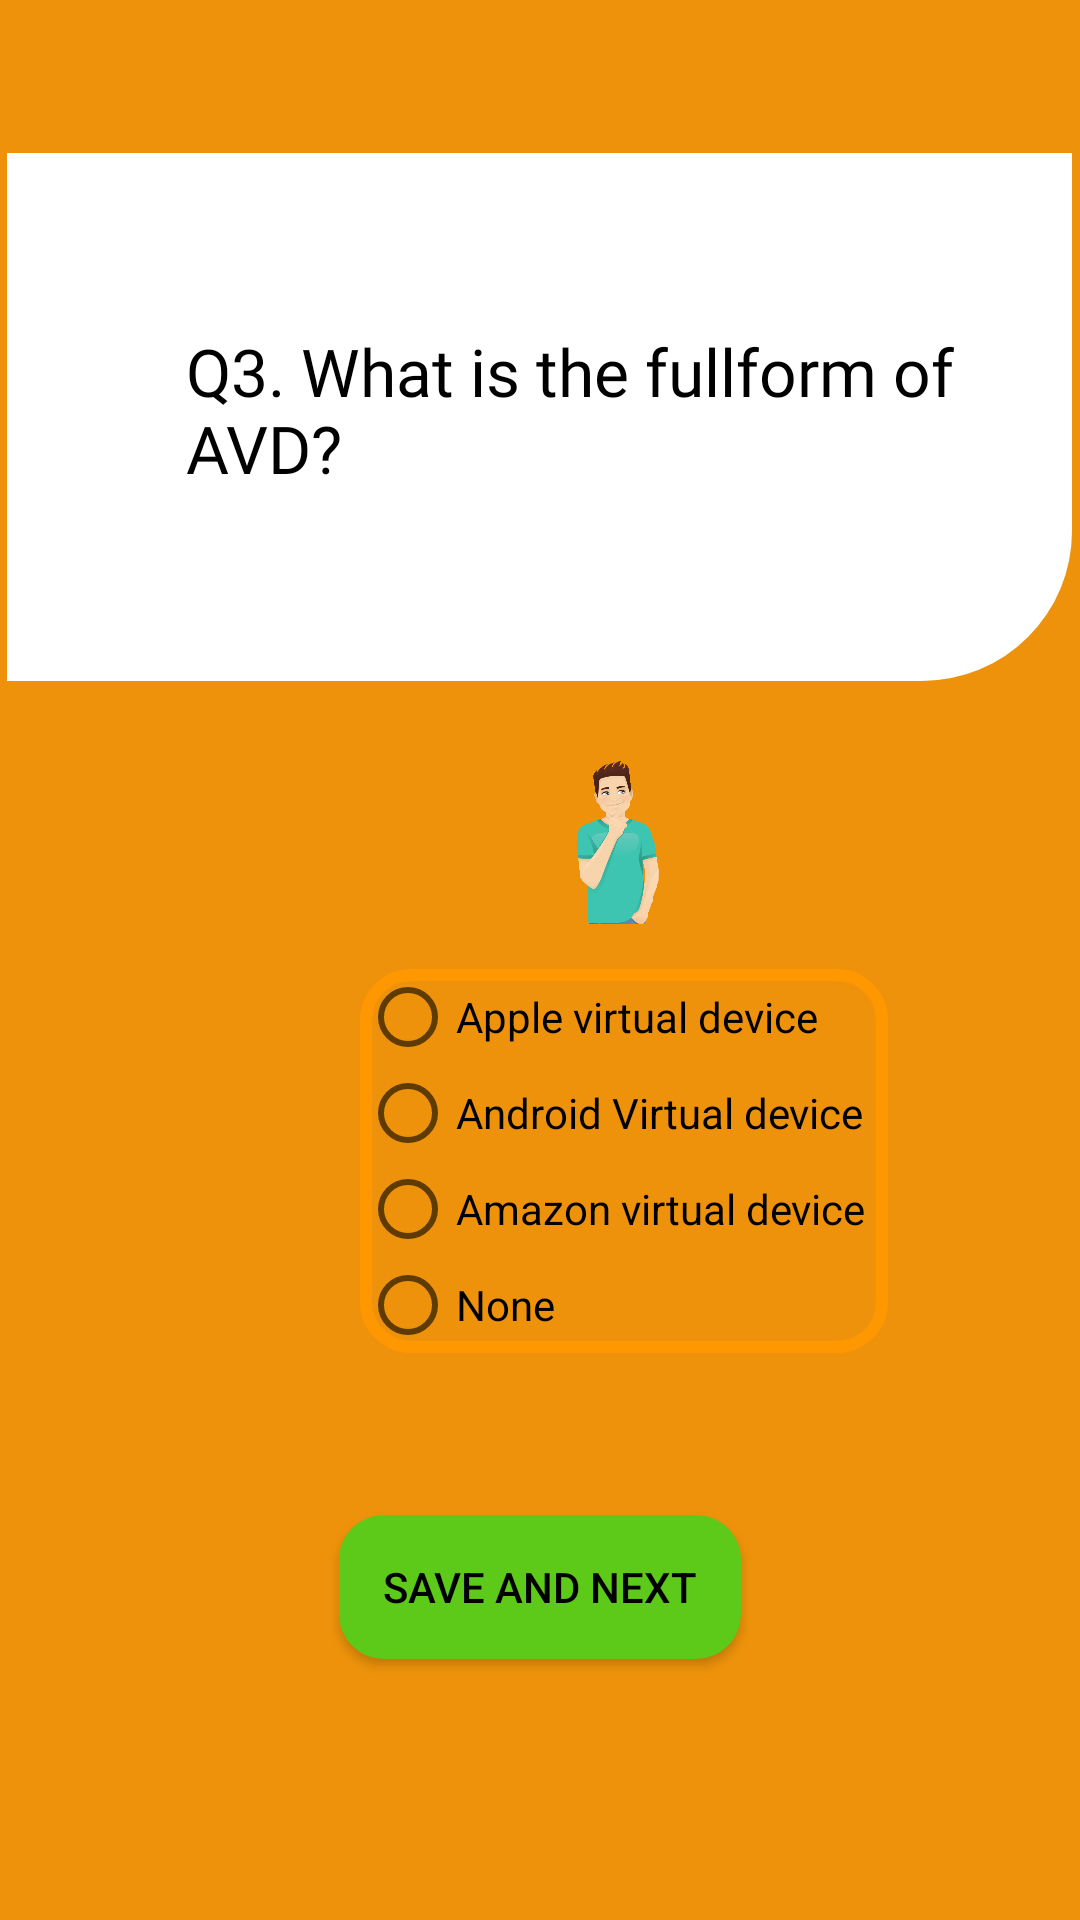

Icons on this 1080 × 1920 Android screen, each with its box as (x1, y1, x2, y2):
think: (577, 761, 659, 924)
